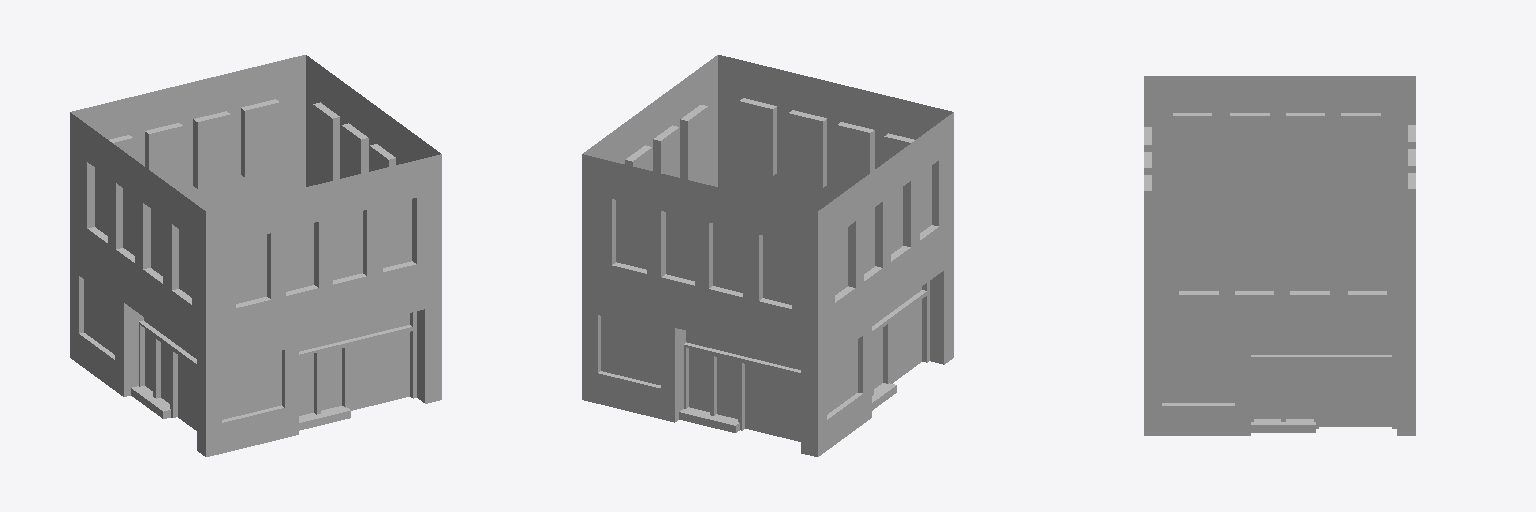
3 views of the same model, side by side, from view 1: azimuth 30°, elevation 25°; view 2: azimuth 150°, elevation 25°; view 3: azimuth 270°, elevation 25° (orthographic).
Parts seen in each view (by area): view 1: building.001_Building_0; view 2: building.001_Building_0; view 3: building.001_Building_0.
Boxes of the visible parts, <box> form: building.001_Building_0: <box>70,55,441,456</box>; building.001_Building_0: <box>582,55,953,456</box>; building.001_Building_0: <box>1144,76,1415,435</box>.
Size of the model in its own units: 14.73 by 14.67 by 14.73.